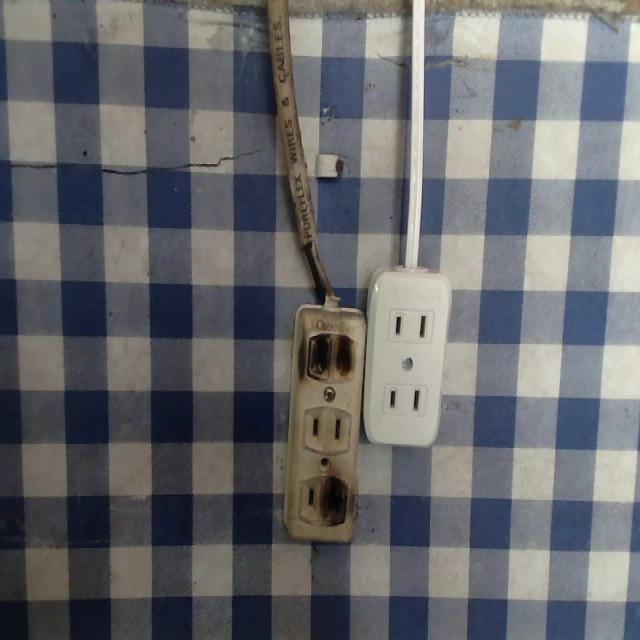-: (306, 329, 359, 384), (321, 474, 350, 526)
